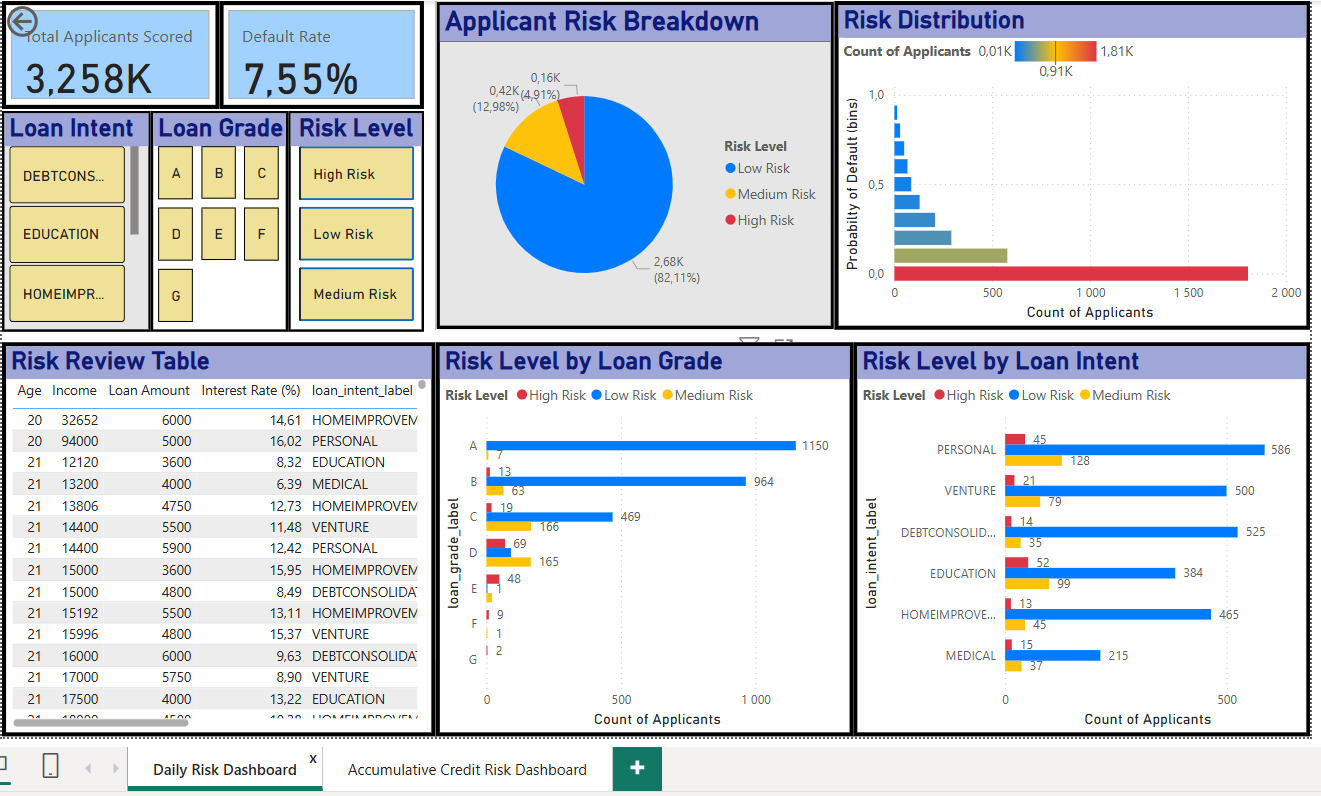

The page's visual inventory and layout, read from the dashboard file:
{"tool":"powerbi","page":{"name":"Daily Risk Dashboard","canvas":[1280,720],"ordinal":0},"visuals":[{"type":"cardVisual","fields":{"Data":["CountNonNull(saved_data.Age)"]},"box":[0,0,212.9,105.7],"z":0},{"type":"cardVisual","fields":{"Data":["saved_data.Default Rate"]},"box":[212.9,0,200,105.7],"z":1000},{"type":"pieChart","title":"Applicant Risk Breakdown","fields":{"Y":["CountNonNull(saved_data.Age)"],"Category":["saved_data.Risk Level"]},"box":[424.3,0,390,321.4],"z":2000},{"type":"clusteredBarChart","title":"Risk Level by Loan Intent","fields":{"Category":["LoanIntentMap.loan_intent_label"],"Series":["saved_data.Risk Level"],"Y":["CountNonNull(saved_data.Income)"]},"box":[832.9,334.3,447.1,385.7],"z":3000},{"type":"clusteredBarChart","title":"Risk Level by Loan Grade","fields":{"Series":["saved_data.Risk Level"],"Y":["CountNonNull(saved_data.Age)"],"Category":["LoanGradeMap.loan_grade_label"]},"box":[424.3,334.3,408.6,385.7],"z":4000},{"type":"clusteredBarChart","title":"Risk Distribution","fields":{"Category":["saved_data.Probabilty of Default (bins)"],"Y":["CountNonNull(saved_data.Income)"]},"box":[814.3,0,465.7,321.4],"z":5000},{"type":"tableEx","title":"Risk Review Table","fields":{"Values":["saved_data.Age","saved_data.Income","saved_data.Loan Amount","saved_data.Interest Rate (%)","LoanIntentMap.loan_intent_label","LoanGradeMap.loan_grade_label","saved_data.Probabilty of Default","saved_data.Risk Level","saved_data.Predicted Default (0/1)"]},"box":[0,334.3,424.3,385.7],"z":6000},{"type":"actionButton","box":[0,0,100,40],"z":7000},{"type":"advancedSlicerVisual","fields":{"Values":["LoanIntentMap.loan_intent_label"]},"box":[0,108,145.7,215.7],"z":8000},{"type":"advancedSlicerVisual","fields":{"Values":["LoanGradeMap.loan_grade_label"]},"box":[145,108,134.3,215.7],"z":9000},{"type":"advancedSlicerVisual","fields":{"Values":["saved_data.Risk Level"]},"box":[280,108,132.9,215.7],"z":10000}]}

Visuals, with their boxes on the page's 1280x720 design canvas (x1, y1, x2, y2). These are canvas units, not pixel positions in the 1321x796 screenshot, which may show the page scaled, cropped or inside an application window:
cardVisual - CountNonNull(saved_data.Age): (x1=0, y1=0, x2=213, y2=106)
cardVisual - saved_data.Default Rate: (x1=213, y1=0, x2=413, y2=106)
"Applicant Risk Breakdown" pieChart: (x1=424, y1=0, x2=814, y2=321)
"Risk Level by Loan Intent" clusteredBarChart: (x1=833, y1=334, x2=1280, y2=720)
"Risk Level by Loan Grade" clusteredBarChart: (x1=424, y1=334, x2=833, y2=720)
"Risk Distribution" clusteredBarChart: (x1=814, y1=0, x2=1280, y2=321)
"Risk Review Table" tableEx: (x1=0, y1=334, x2=424, y2=720)
actionButton: (x1=0, y1=0, x2=100, y2=40)
advancedSlicerVisual - LoanIntentMap.loan_intent_label: (x1=0, y1=108, x2=146, y2=324)
advancedSlicerVisual - LoanGradeMap.loan_grade_label: (x1=145, y1=108, x2=279, y2=324)
advancedSlicerVisual - saved_data.Risk Level: (x1=280, y1=108, x2=413, y2=324)
